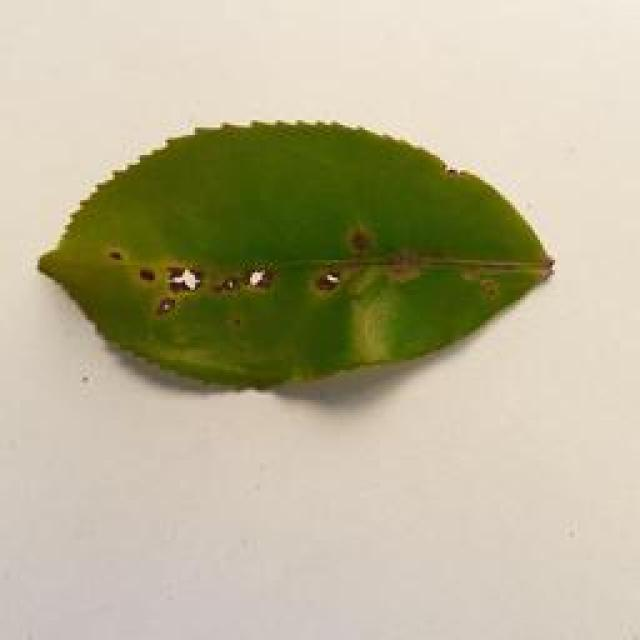Helopeltis: (26, 112, 553, 401)
